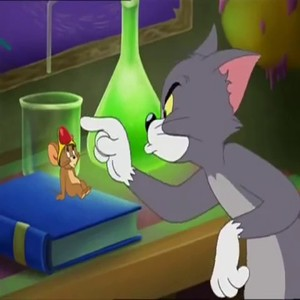Jerry: (52, 125, 96, 203)
